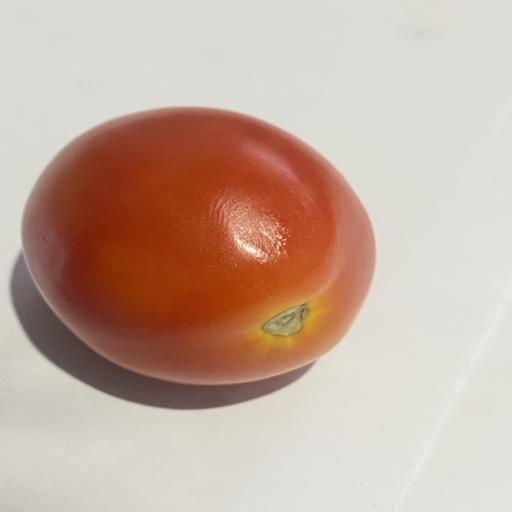ripe: (23, 108, 375, 384)
